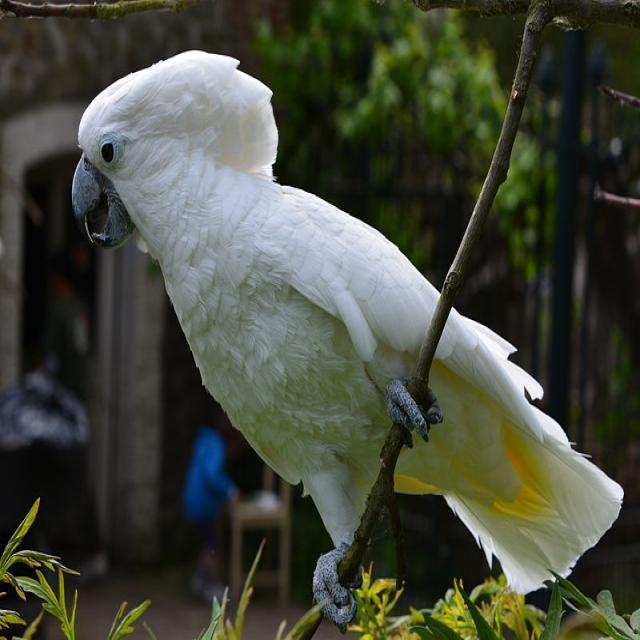Kakatua Putih: (50, 38, 640, 640)
